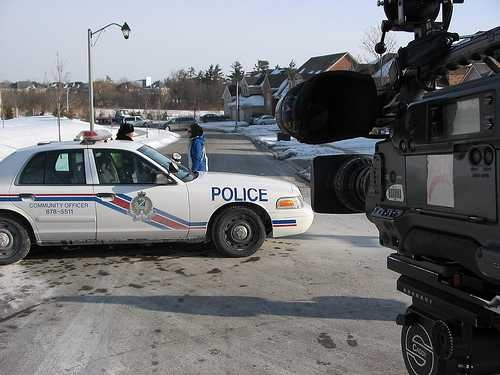Police Car: (4, 115, 310, 284)
